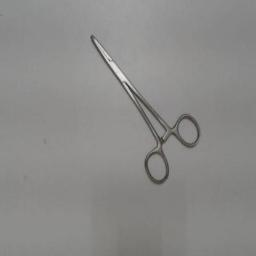Mayo Needle Holder: (84, 25, 206, 189)
